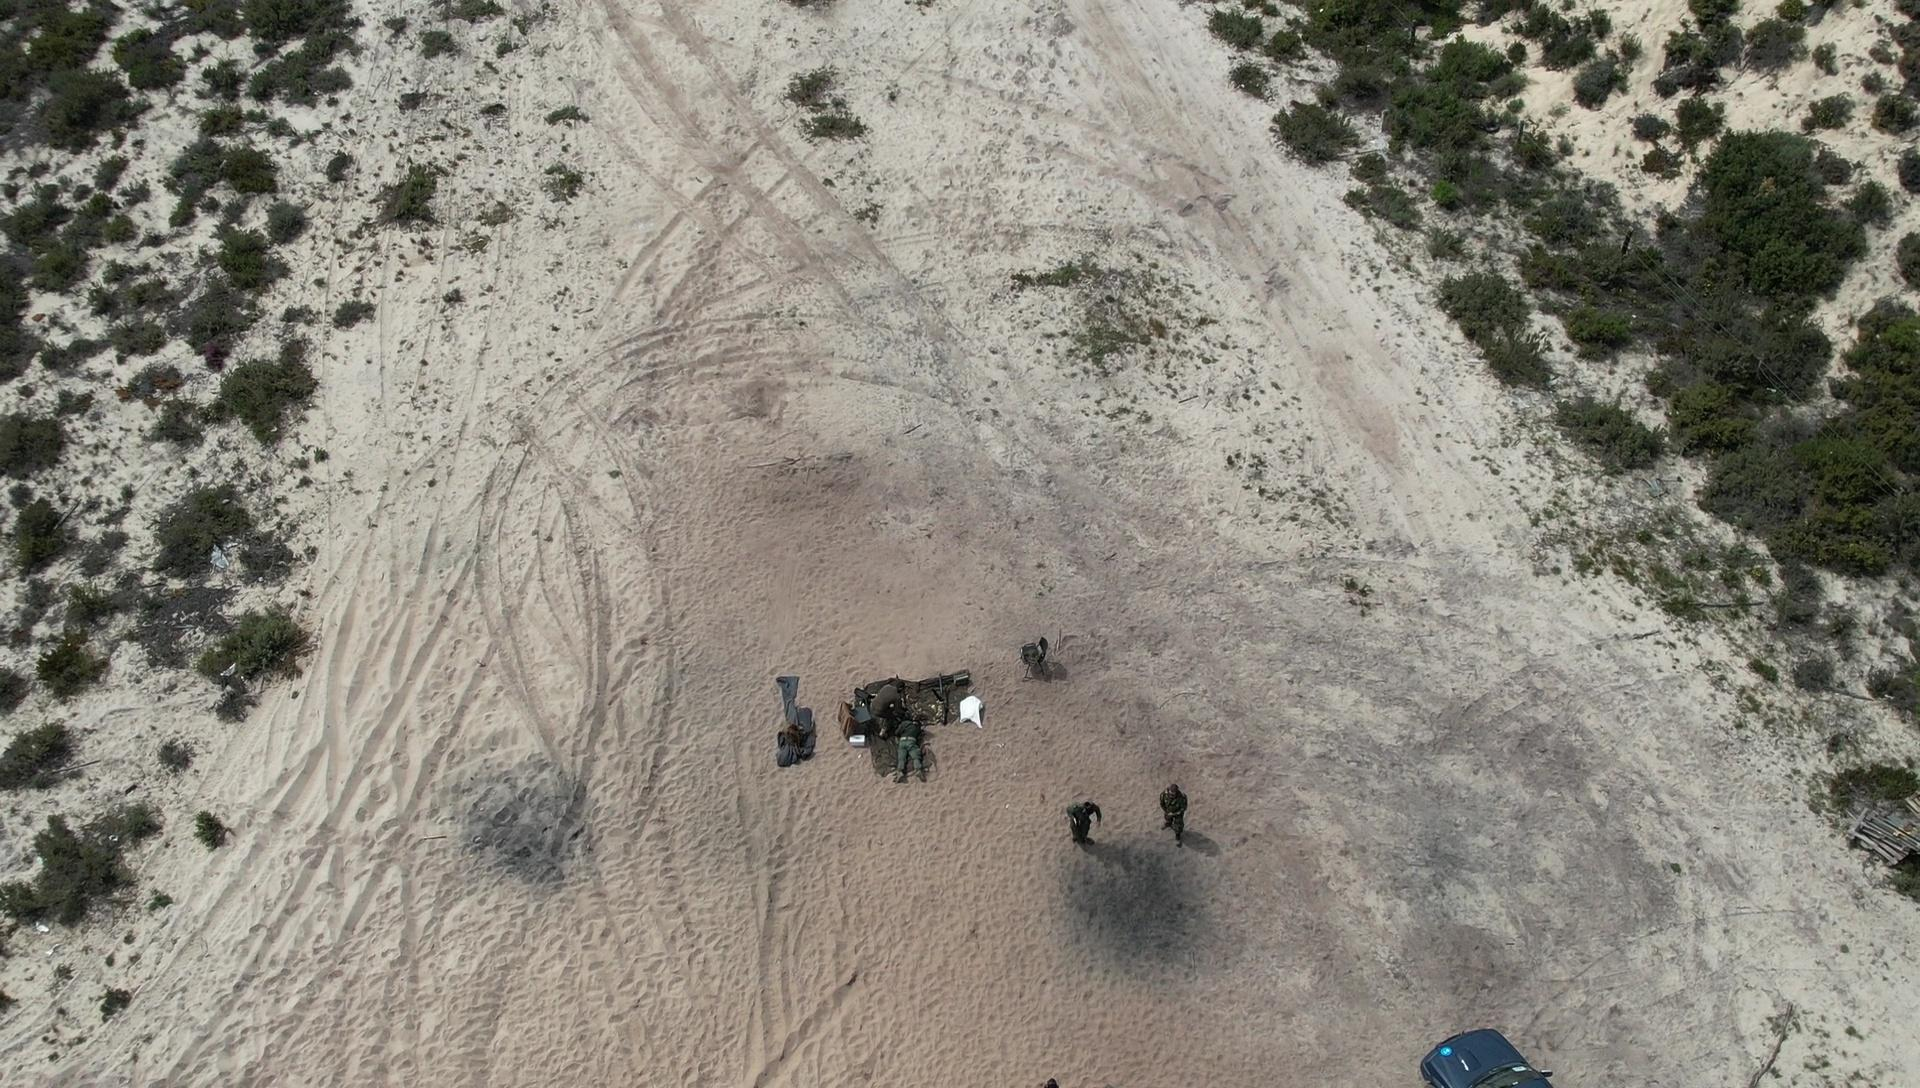Soldier: (1054, 787, 1104, 855), (891, 715, 935, 791), (1155, 779, 1193, 855), (865, 670, 905, 736)
